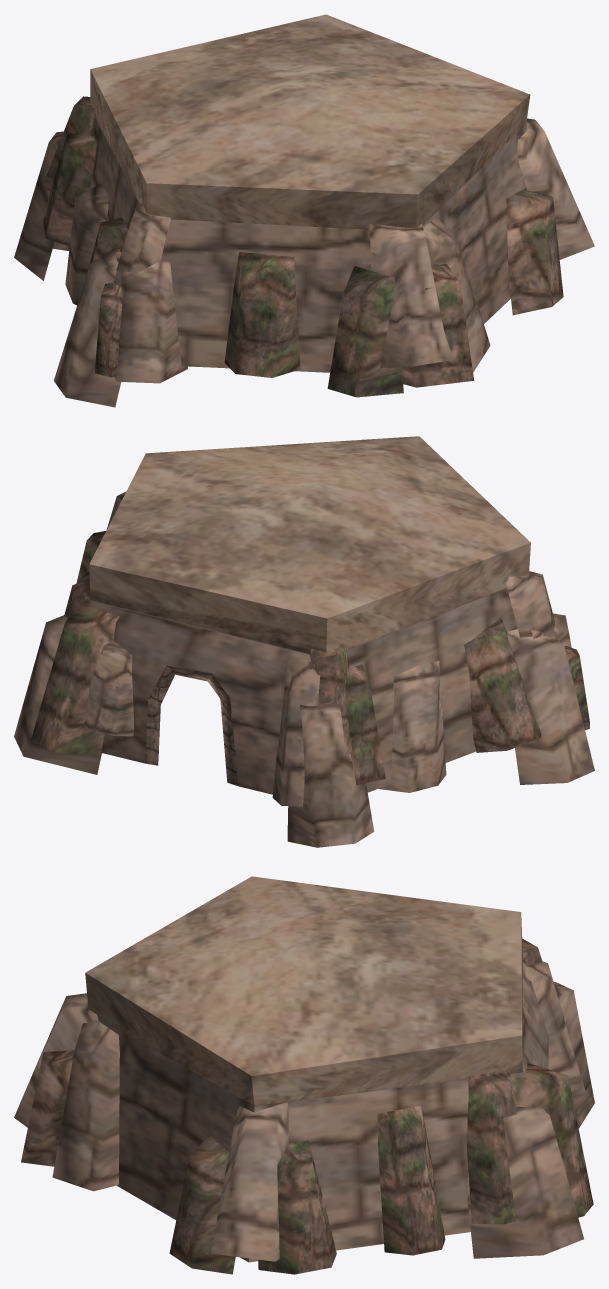
File: thm_dant_large_communal_l3.fbx
3 views of the same model, one above another, from view 1: azimuth 30°, elevation 25°; view 2: azimuth 150°, elevation 25°; view 3: azimuth 270°, elevation 25° (orthographic). The views are drawn at different scales.
Parts seen in each view (by area): view 1: mesh_node; view 2: mesh_node; view 3: mesh_node.
Boxes of the visible parts, x1=… form: mesh_node: x1=14, y1=14, x2=594, y2=407; mesh_node: x1=14, y1=436, x2=594, y2=847; mesh_node: x1=14, y1=876, x2=594, y2=1274.
Size of the model in its own units: 31.87 by 14.21 by 30.37.
